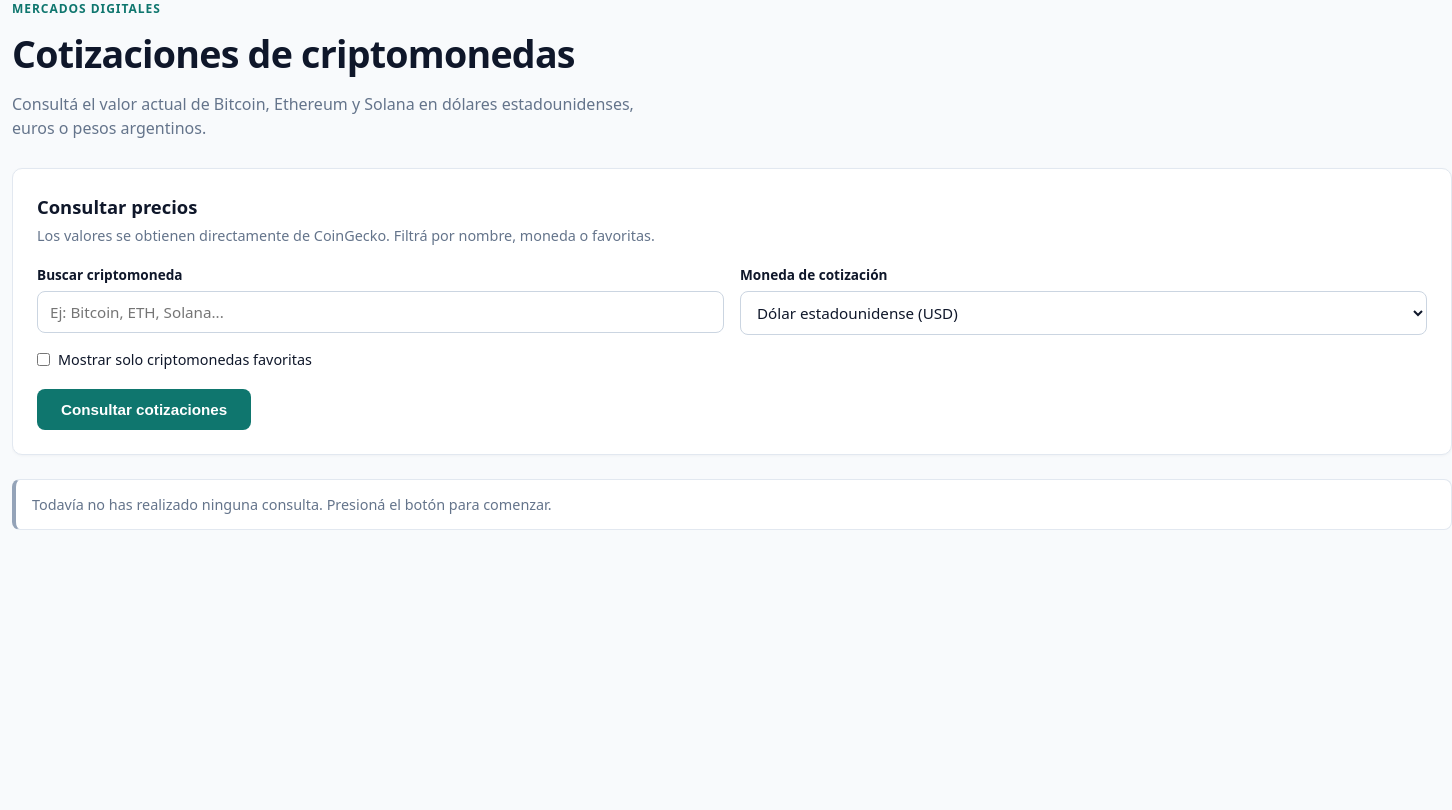
Test: HomePage - Consulta, carga, error y reintento › muestra un mensaje de error y permite reintentar cuando falla la consulta
The image size is (1452, 810).
Click the button "Consultar cotizaciones": (144, 409) [37,389,251,430]
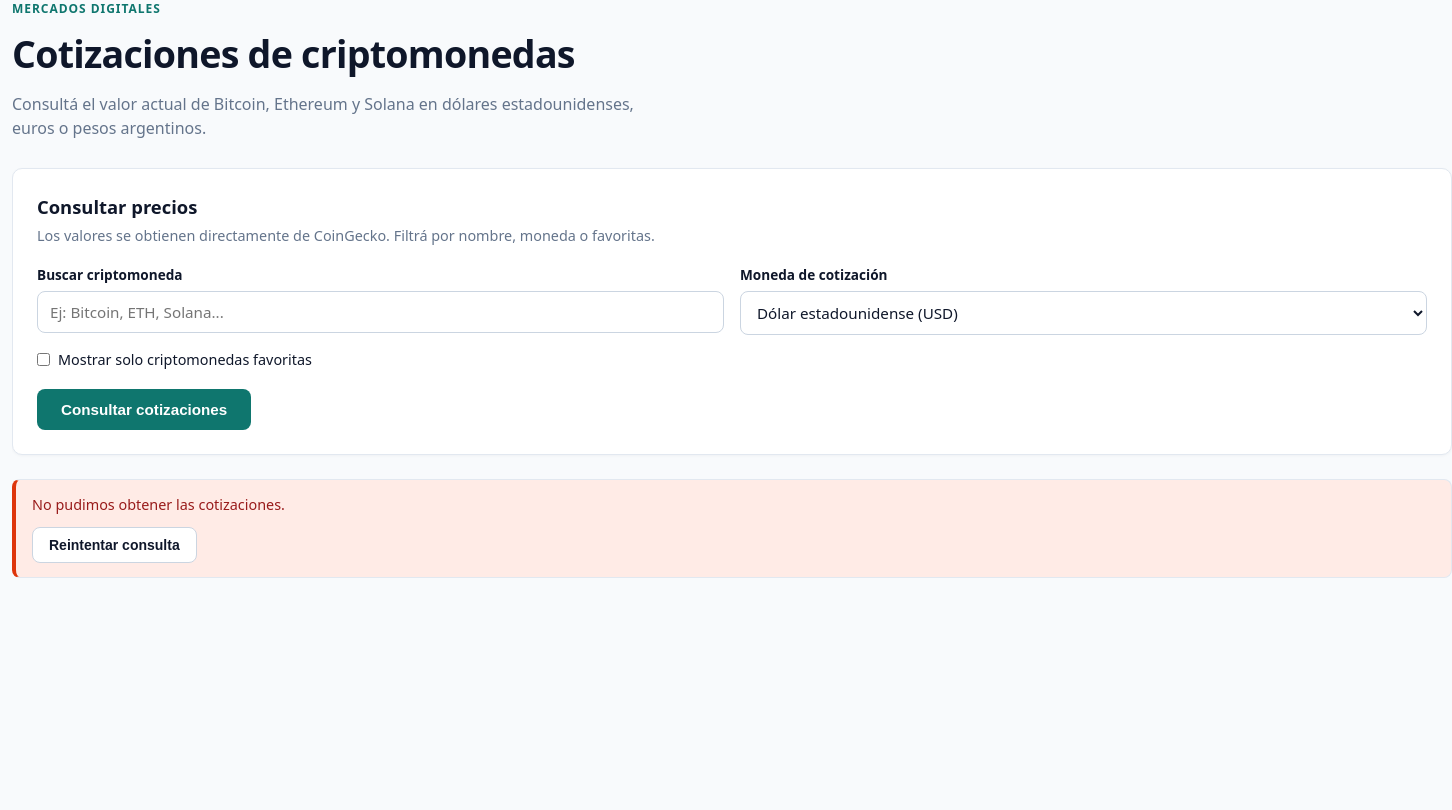
Expected: the message shows "No pudimos obtener las cotizaciones", [32,495,285,514]
Click the button "Reintentar consulta": (114, 545) [32,527,197,563]
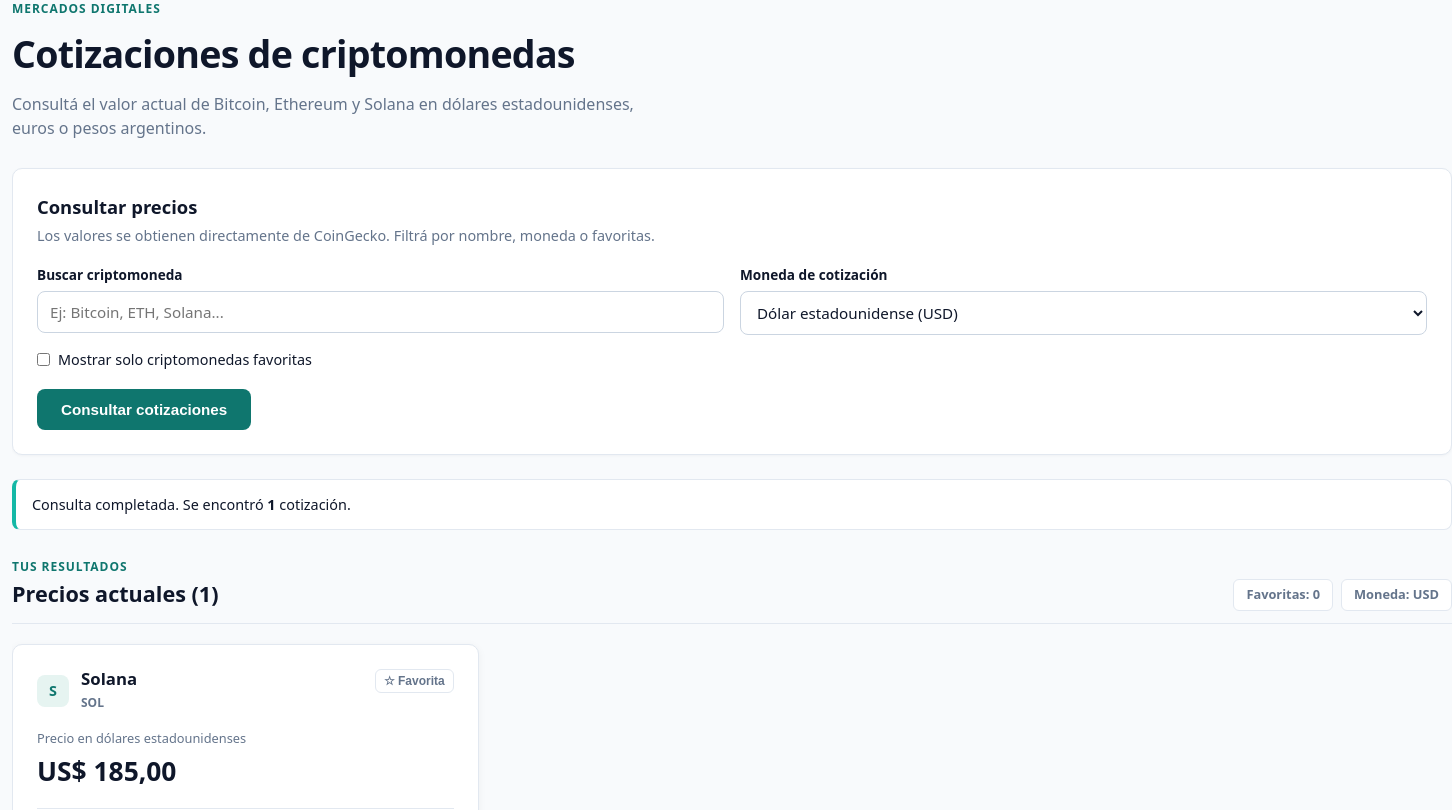
Expected: the heading "Solana" is shown, [81,669,137,689]
